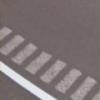crosswalks: (0, 20, 100, 100)
